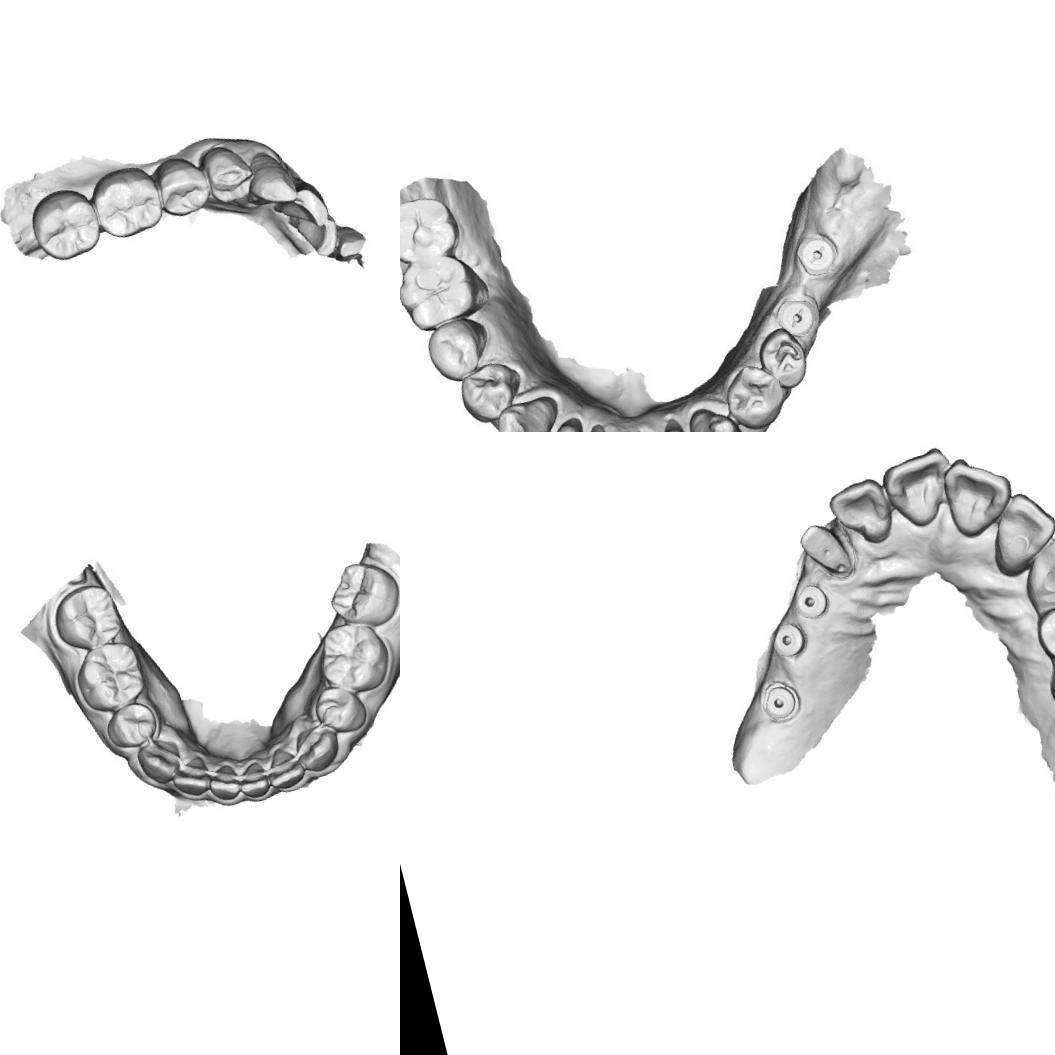canine: (240, 145, 299, 211), (1012, 530, 1055, 615), (486, 392, 571, 432), (132, 732, 188, 789), (290, 720, 342, 774), (686, 398, 750, 432)
crown: (792, 513, 858, 587)
implant: (752, 679, 805, 726), (768, 617, 810, 659), (792, 580, 832, 623)
implant_minus: (780, 225, 846, 285), (770, 287, 826, 342)
incisor: (934, 449, 1024, 542), (877, 443, 960, 533), (982, 483, 1055, 569), (823, 474, 899, 551), (260, 740, 310, 793), (166, 750, 214, 802), (284, 182, 330, 232), (296, 214, 344, 261), (232, 754, 273, 802), (326, 220, 370, 264), (202, 758, 244, 804), (640, 413, 702, 432), (529, 417, 590, 432)
molar: (310, 614, 397, 700), (68, 635, 154, 719), (24, 182, 106, 266), (86, 160, 168, 244), (319, 552, 400, 636), (46, 577, 128, 655), (400, 251, 478, 331), (400, 192, 459, 264)
premolar: (454, 354, 530, 427), (422, 312, 497, 381), (722, 362, 796, 427), (150, 150, 215, 222), (196, 140, 260, 209), (308, 678, 372, 740), (757, 323, 814, 389), (98, 696, 163, 753), (1031, 591, 1055, 665)
